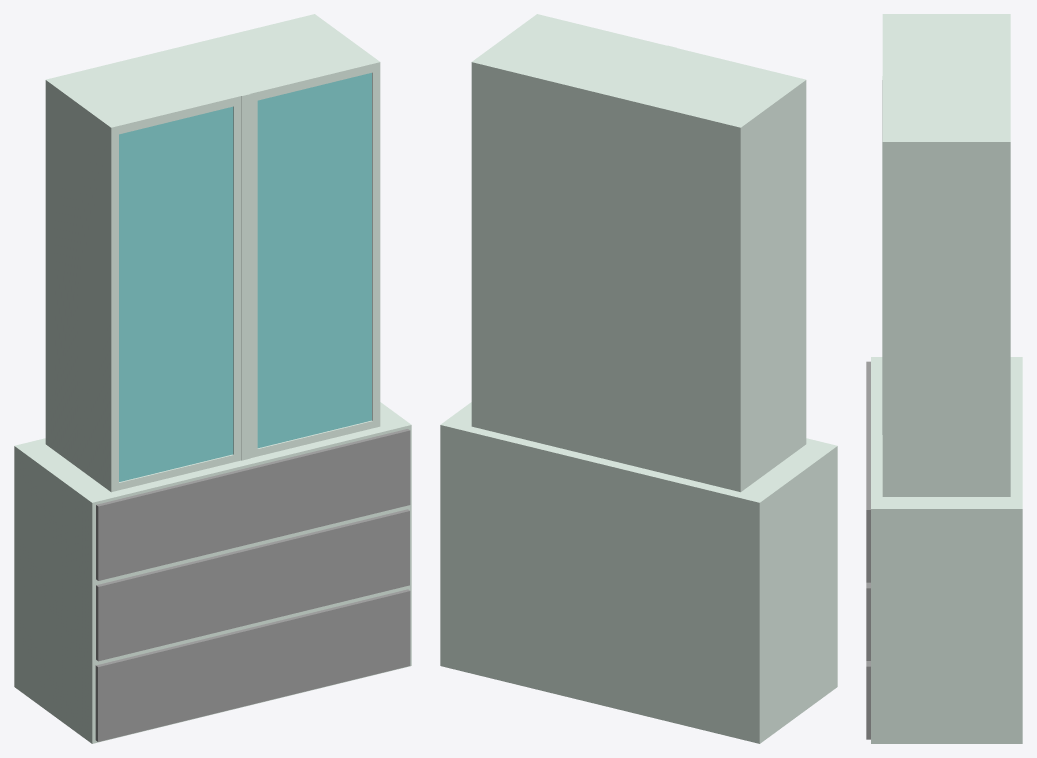
File: glassCabinet.fbx
The picture shows the model from 3 angles, left to right: view 1: azimuth 30°, elevation 25°; view 2: azimuth 150°, elevation 25°; view 3: azimuth 270°, elevation 25°; orthographic projection. The views are drawn at different scales.
Parts seen in each view (by area): view 1: Cube.001, Cube.002, GlassCabinet; view 2: Cube.001, GlassCabinet; view 3: Cube.001, GlassCabinet, Cube.002.
Boxes of the visible parts, x1,y1,x2,y2 form: Cube.001: (45,14,380,492); Cube.002: (95,429,410,741); GlassCabinet: (14,402,411,743); Cube.001: (471,14,806,492); GlassCabinet: (440,402,837,743); Cube.001: (882,14,1010,496); GlassCabinet: (871,357,1022,743); Cube.002: (866,361,870,739).
Bounding box in the file's own units: 680 × 1231 × 296.
